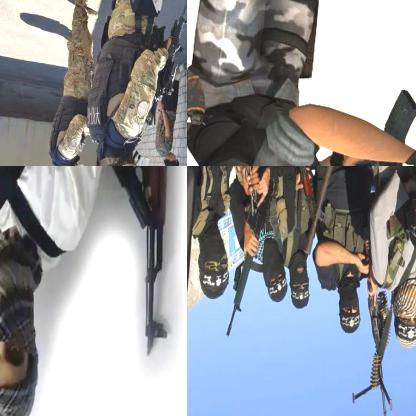rifle: (104, 166, 176, 361), (318, 88, 415, 165), (298, 166, 371, 259), (351, 287, 398, 415), (222, 207, 265, 334), (145, 0, 186, 126), (235, 166, 281, 221)
